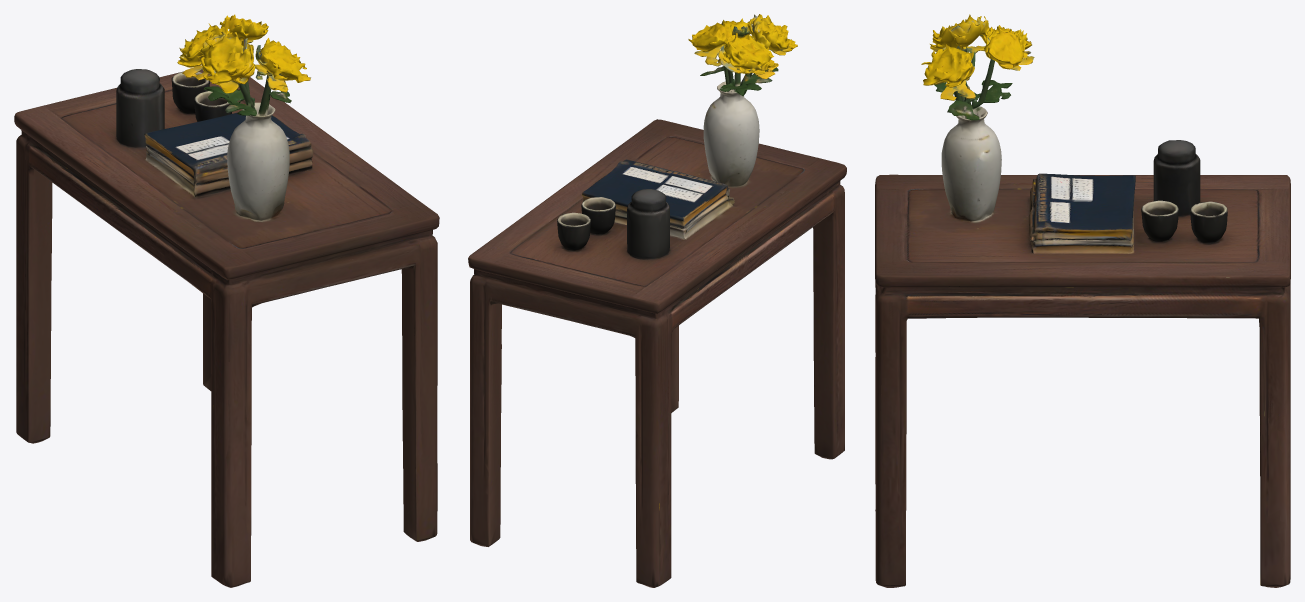
Rendered from f_suan.glb.
The picture shows the model from 3 angles, left to right: view 1: azimuth 30°, elevation 25°; view 2: azimuth 150°, elevation 25°; view 3: azimuth 270°, elevation 25°; orthographic projection. The views are drawn at different scales.
Parts seen in each view (by area): view 1: tripo_node_76124611-5e42-4e4e-80fc-ec4c2dc6098b; view 2: tripo_node_76124611-5e42-4e4e-80fc-ec4c2dc6098b; view 3: tripo_node_76124611-5e42-4e4e-80fc-ec4c2dc6098b.
Part boxes in pixels (box(x1,y1,x2,y2)): tripo_node_76124611-5e42-4e4e-80fc-ec4c2dc6098b: box(14, 14, 439, 587); tripo_node_76124611-5e42-4e4e-80fc-ec4c2dc6098b: box(468, 14, 846, 587); tripo_node_76124611-5e42-4e4e-80fc-ec4c2dc6098b: box(875, 14, 1290, 587).
Size of the model in its own units: 0.4438 by 1 by 0.7586.
1 material, 1 textured.
